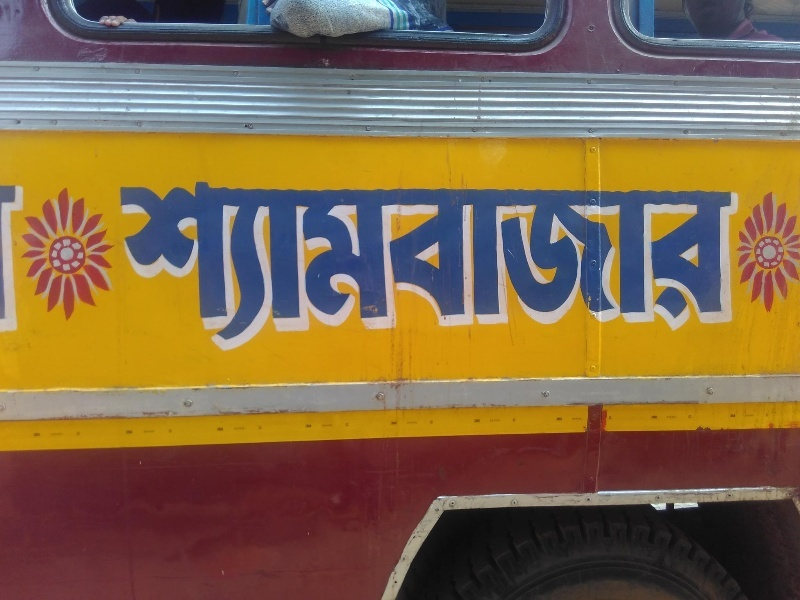text: (17, 168, 33, 365), (129, 180, 144, 363), (145, 180, 160, 363), (161, 180, 176, 363), (177, 180, 192, 363), (193, 180, 208, 363), (209, 180, 224, 363), (225, 180, 240, 363), (241, 180, 256, 363), (257, 180, 272, 363), (273, 180, 288, 363), (289, 180, 304, 363), (305, 180, 320, 363), (321, 180, 336, 363), (337, 180, 352, 363), (353, 180, 368, 363), (369, 180, 384, 363), (385, 180, 400, 363), (401, 180, 416, 363), (417, 180, 432, 363), (433, 180, 448, 363), (449, 180, 464, 363), (465, 180, 480, 363), (481, 180, 496, 363), (497, 180, 512, 363), (513, 180, 528, 363), (529, 180, 544, 363), (545, 180, 560, 363), (561, 180, 576, 363), (577, 180, 592, 363), (593, 180, 608, 363), (609, 180, 624, 363), (625, 180, 640, 363), (641, 180, 656, 363), (657, 180, 672, 363), (673, 180, 688, 363), (689, 180, 704, 363), (705, 180, 720, 363), (721, 180, 736, 363), (114, 180, 128, 363), (4, 168, 16, 365), (737, 180, 740, 363)
